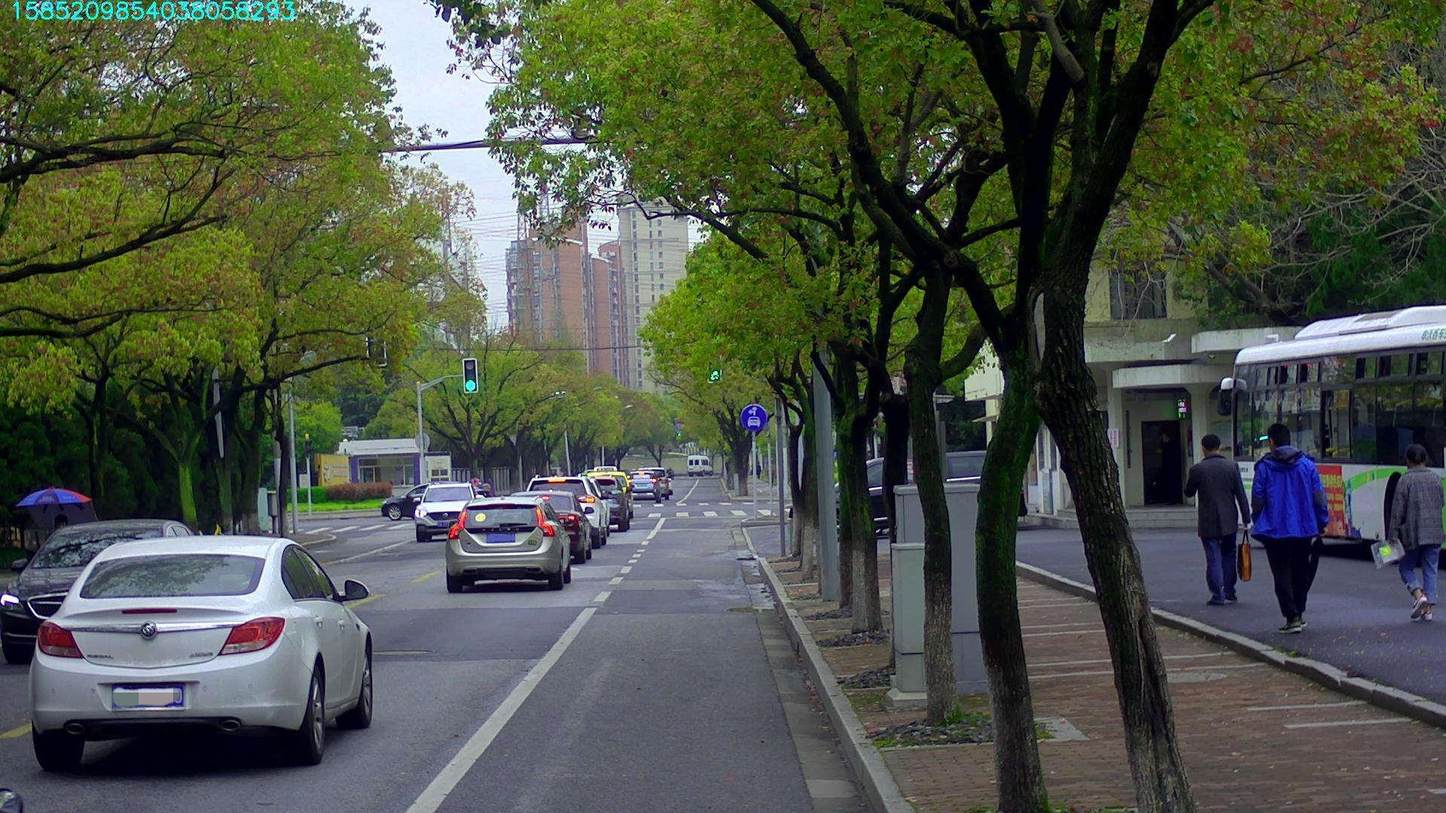green: (462, 358, 477, 391), (708, 363, 721, 380)
